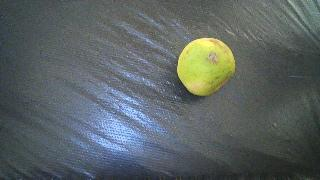DESECHO: (177, 38, 235, 96)
